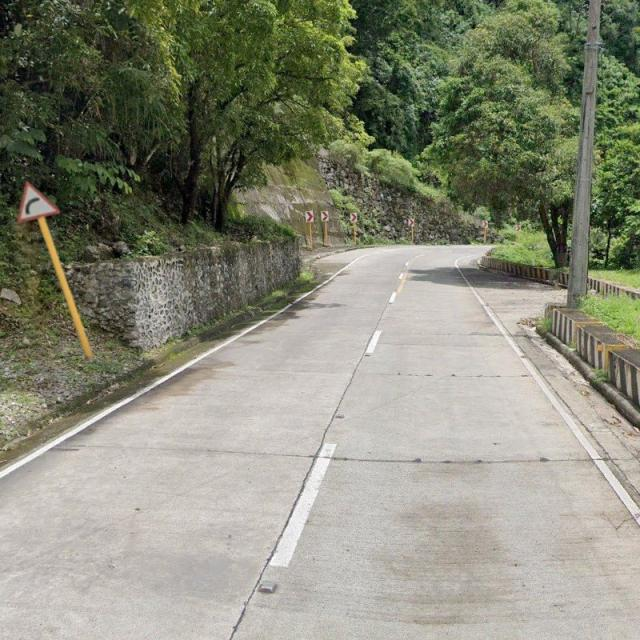warn_right_curve: (18, 181, 61, 223)
